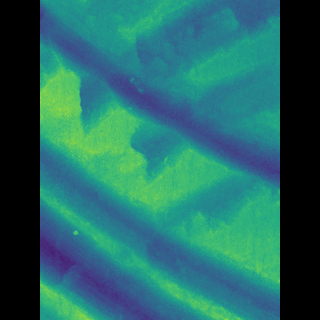Loch: (69, 0, 249, 194), (70, 128, 250, 320)
